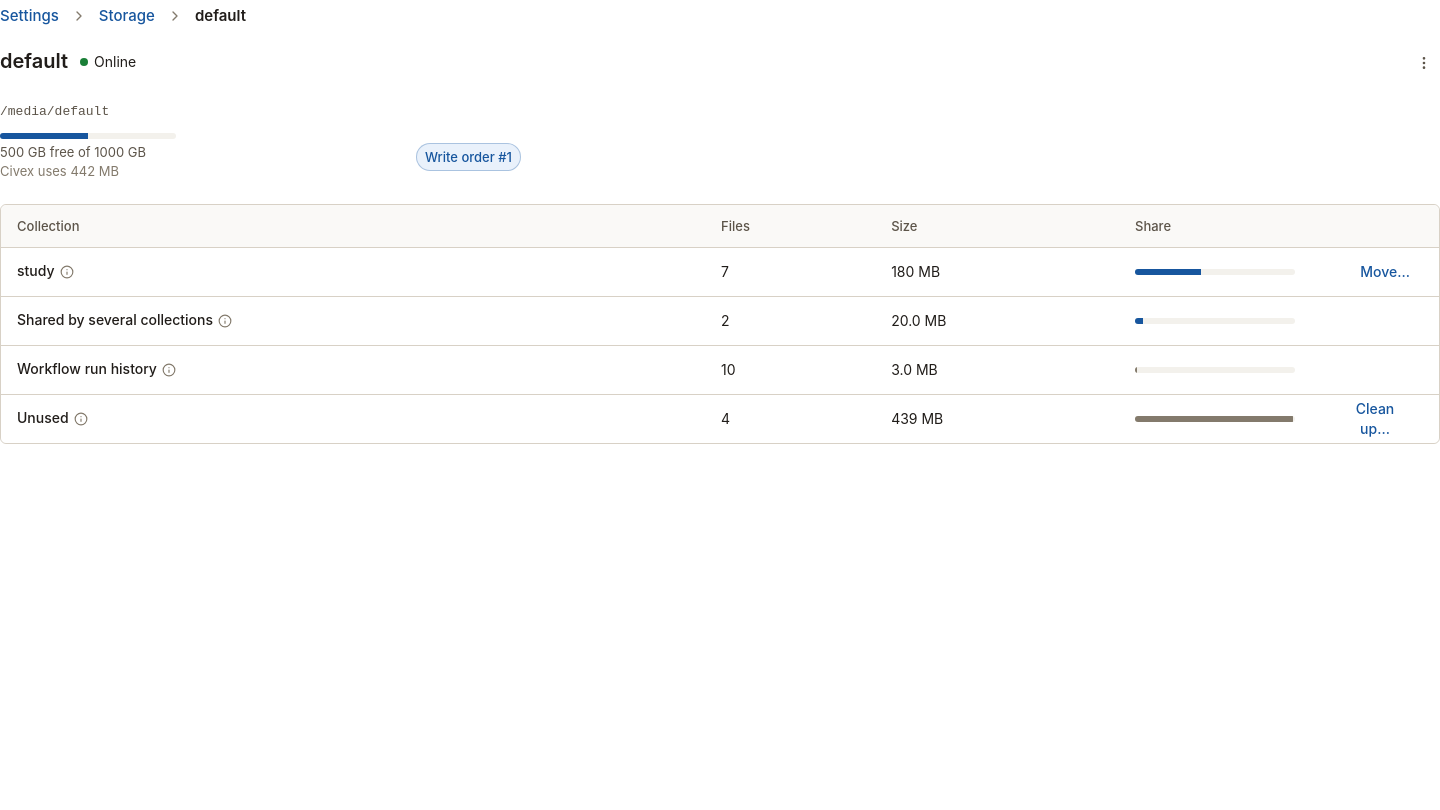
Test: a volume’s page › cleans up from the volume page itself, limited to that volume
Click the button "Clean up…". click: [1375, 419]
box: [1327,403,1423,435]
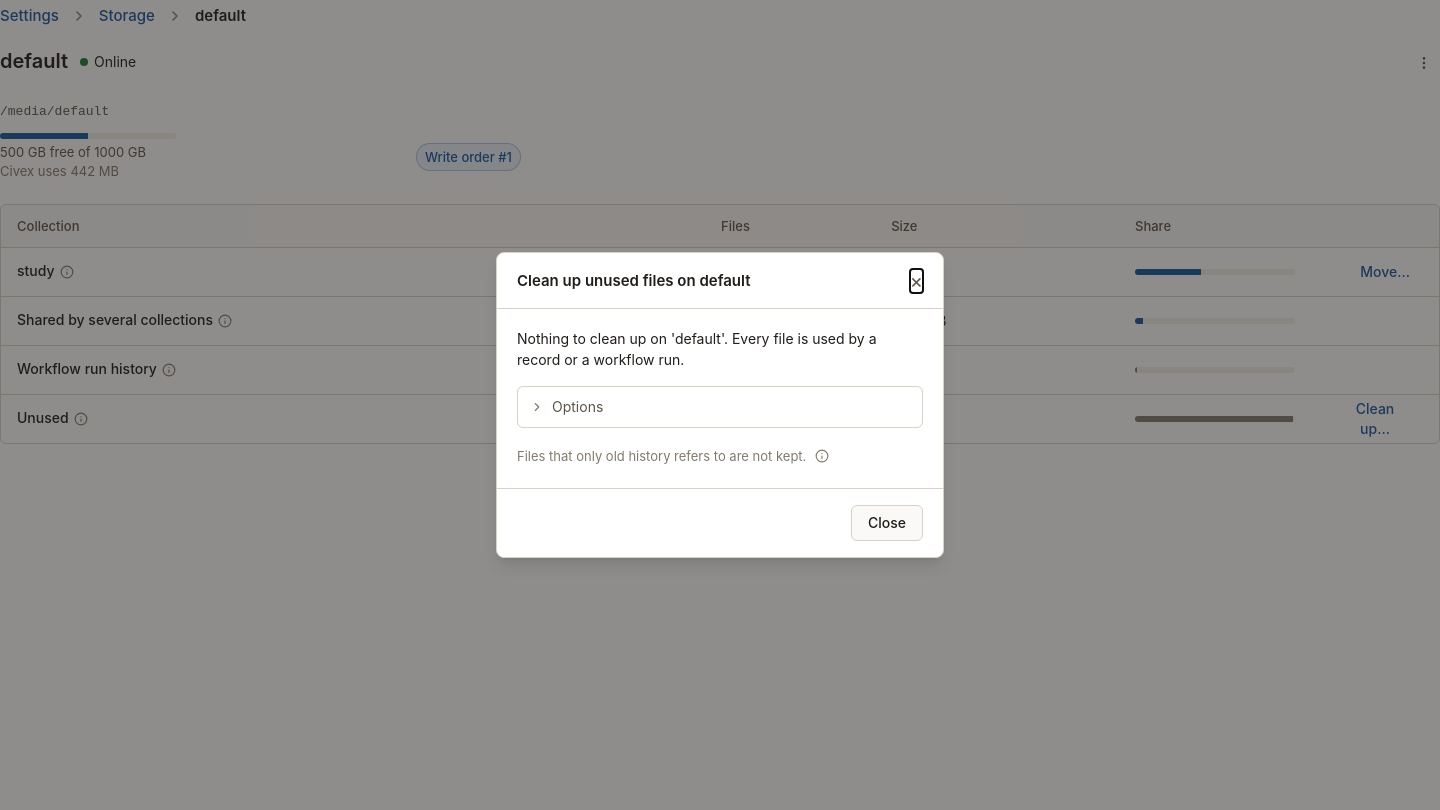
Result: the heading "Clean up unused files on default" is shown at [517,269,750,292]
